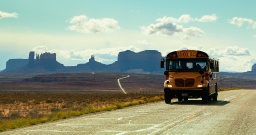bus: (160, 47, 223, 109)
